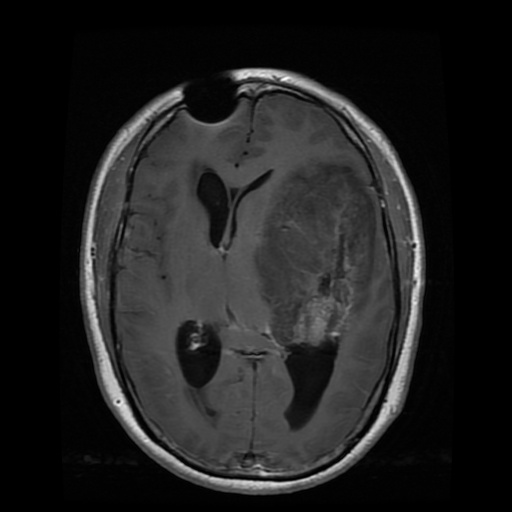glioma: (256, 165, 375, 345)
